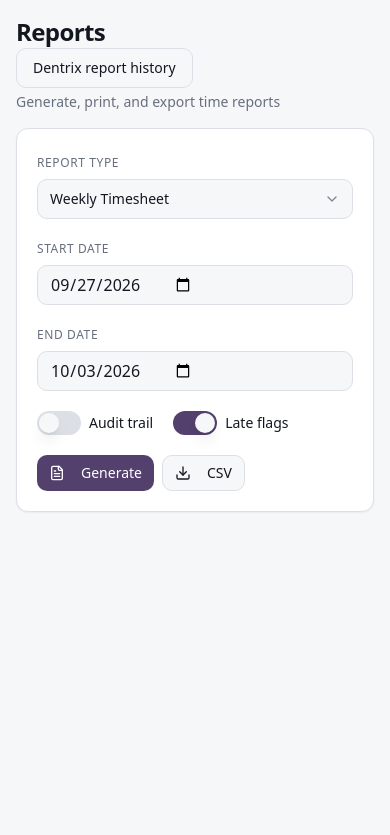
Test: payroll report missing-time flags › flags an unexplained scheduled day and links it to that person on Team Attendance
What coordinates should you click on to do the following:
click the button "Generate"
I would click on:
 (96, 473)
Its box is [37,455,154,491].
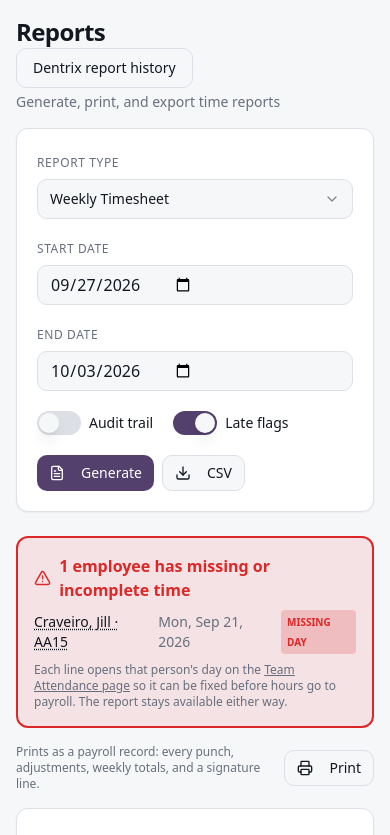
Expected: the text "1 employee has missing or incomplete time" is shown, [34,555,270,601]
Expected: the link "Craveiro, Jill · AA15 Mon, Sep 21, 2026 MISSING DAY" is shown, [30,610,360,654]
